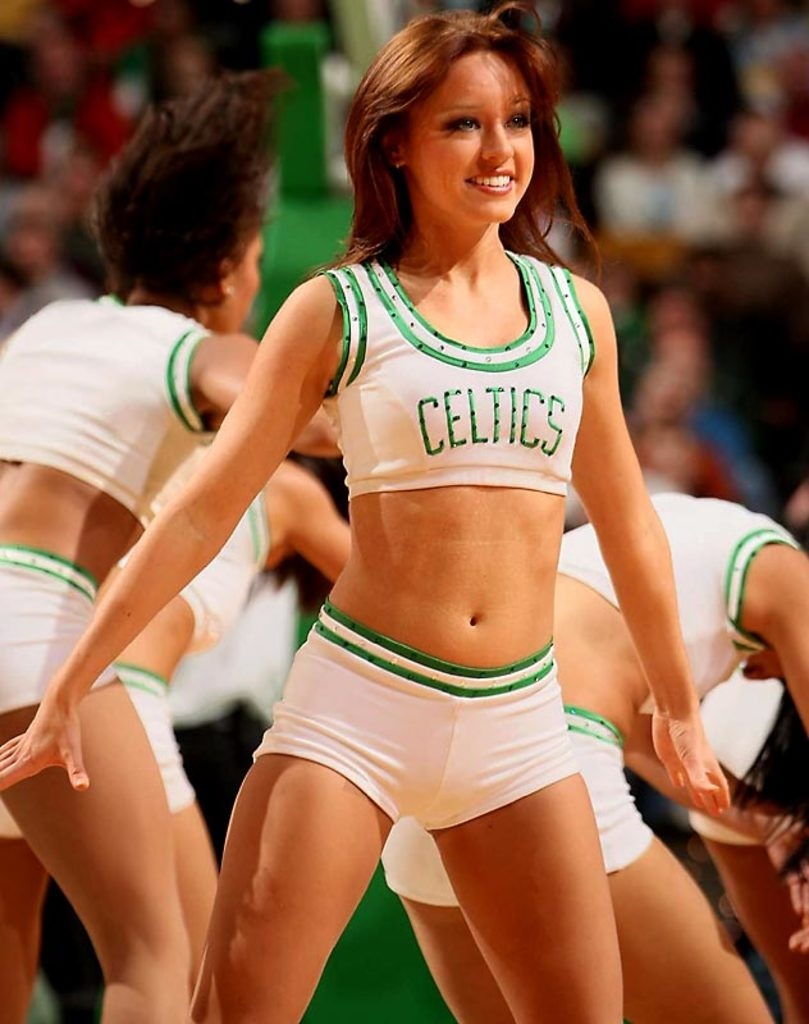person: (0, 177, 97, 345)
